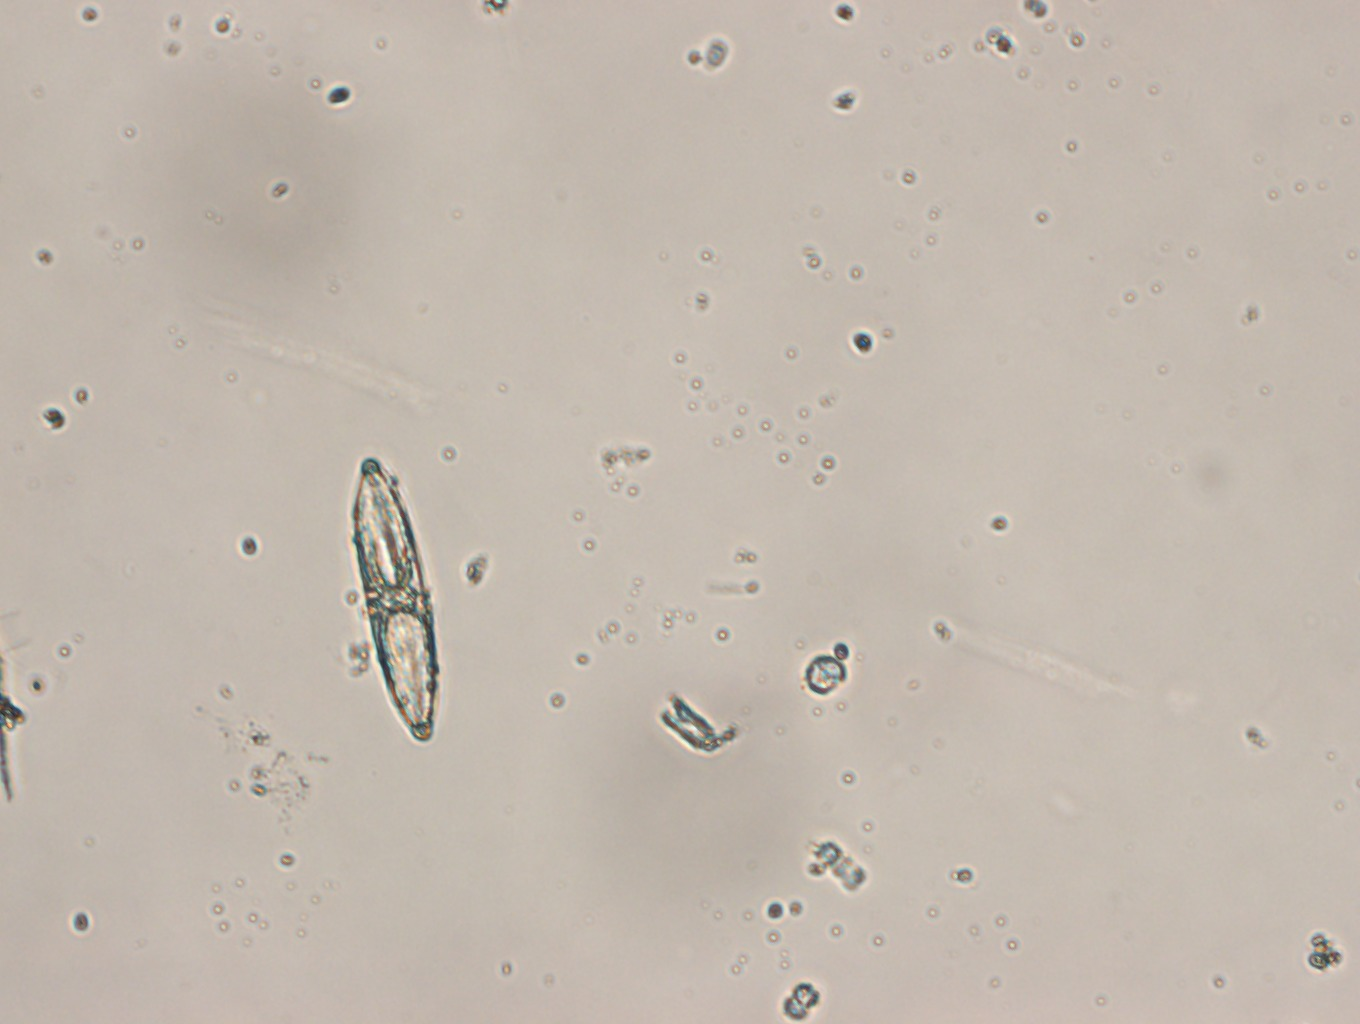navicula: (349, 459, 440, 743)
